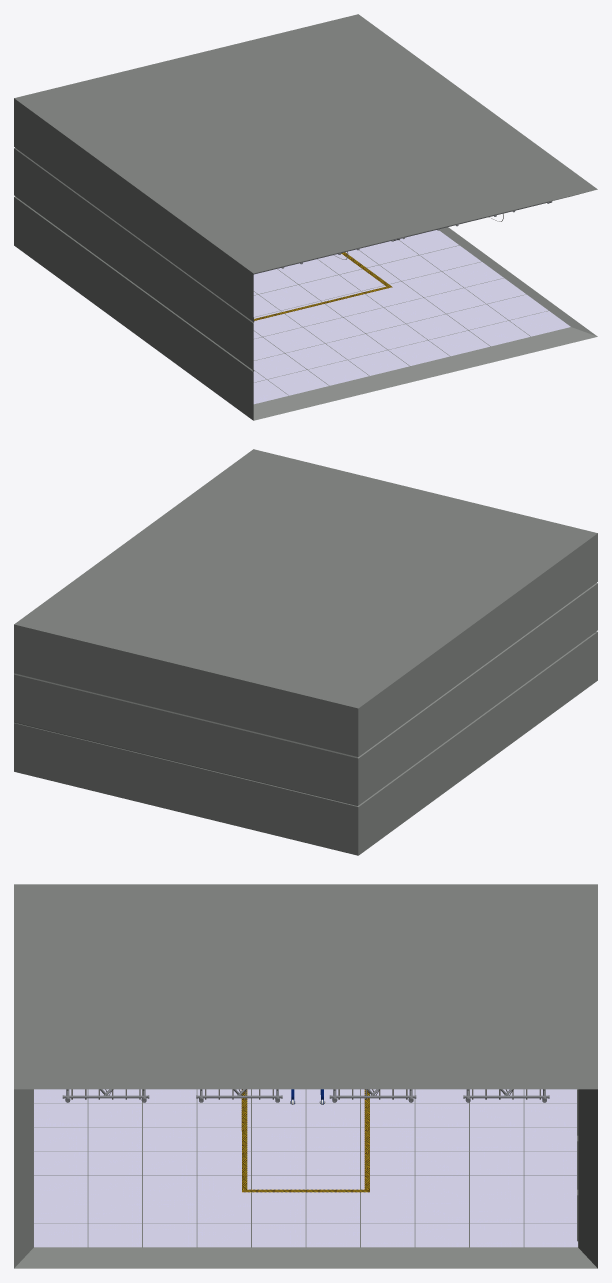
File: garage.glb
3 views of the same model, one above another, from view 1: azimuth 30°, elevation 25°; view 2: azimuth 150°, elevation 25°; view 3: azimuth 270°, elevation 25° (orthographic). The views are drawn at different scales.
Visible parts, largest first — view 1: Object_4, Object_28; view 2: Object_4; view 3: Object_4, Object_22, Object_28.
Part boxes in pixels (left/top/right/bottom): Object_4: left=14, top=14, right=597, bottom=420; Object_28: left=254, top=252, right=392, bottom=320; Object_4: left=14, top=449, right=597, bottom=855; Object_4: left=14, top=884, right=597, bottom=1268; Object_22: left=62, top=1089, right=549, bottom=1102; Object_28: left=241, top=1089, right=369, bottom=1192.
Bounding box in the file's own units: 7.53 × 3.08 × 9.07.
Materials: 4 (4 with a texture image).
